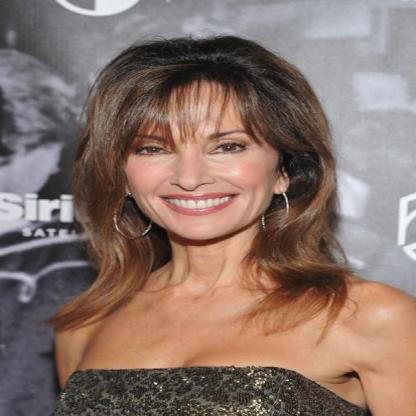long-hair: (64, 246, 366, 292)
